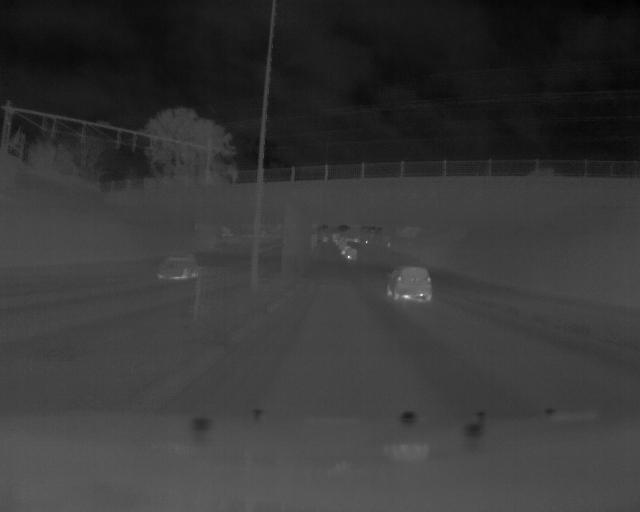car: (386, 264, 433, 303), (155, 251, 199, 281)
